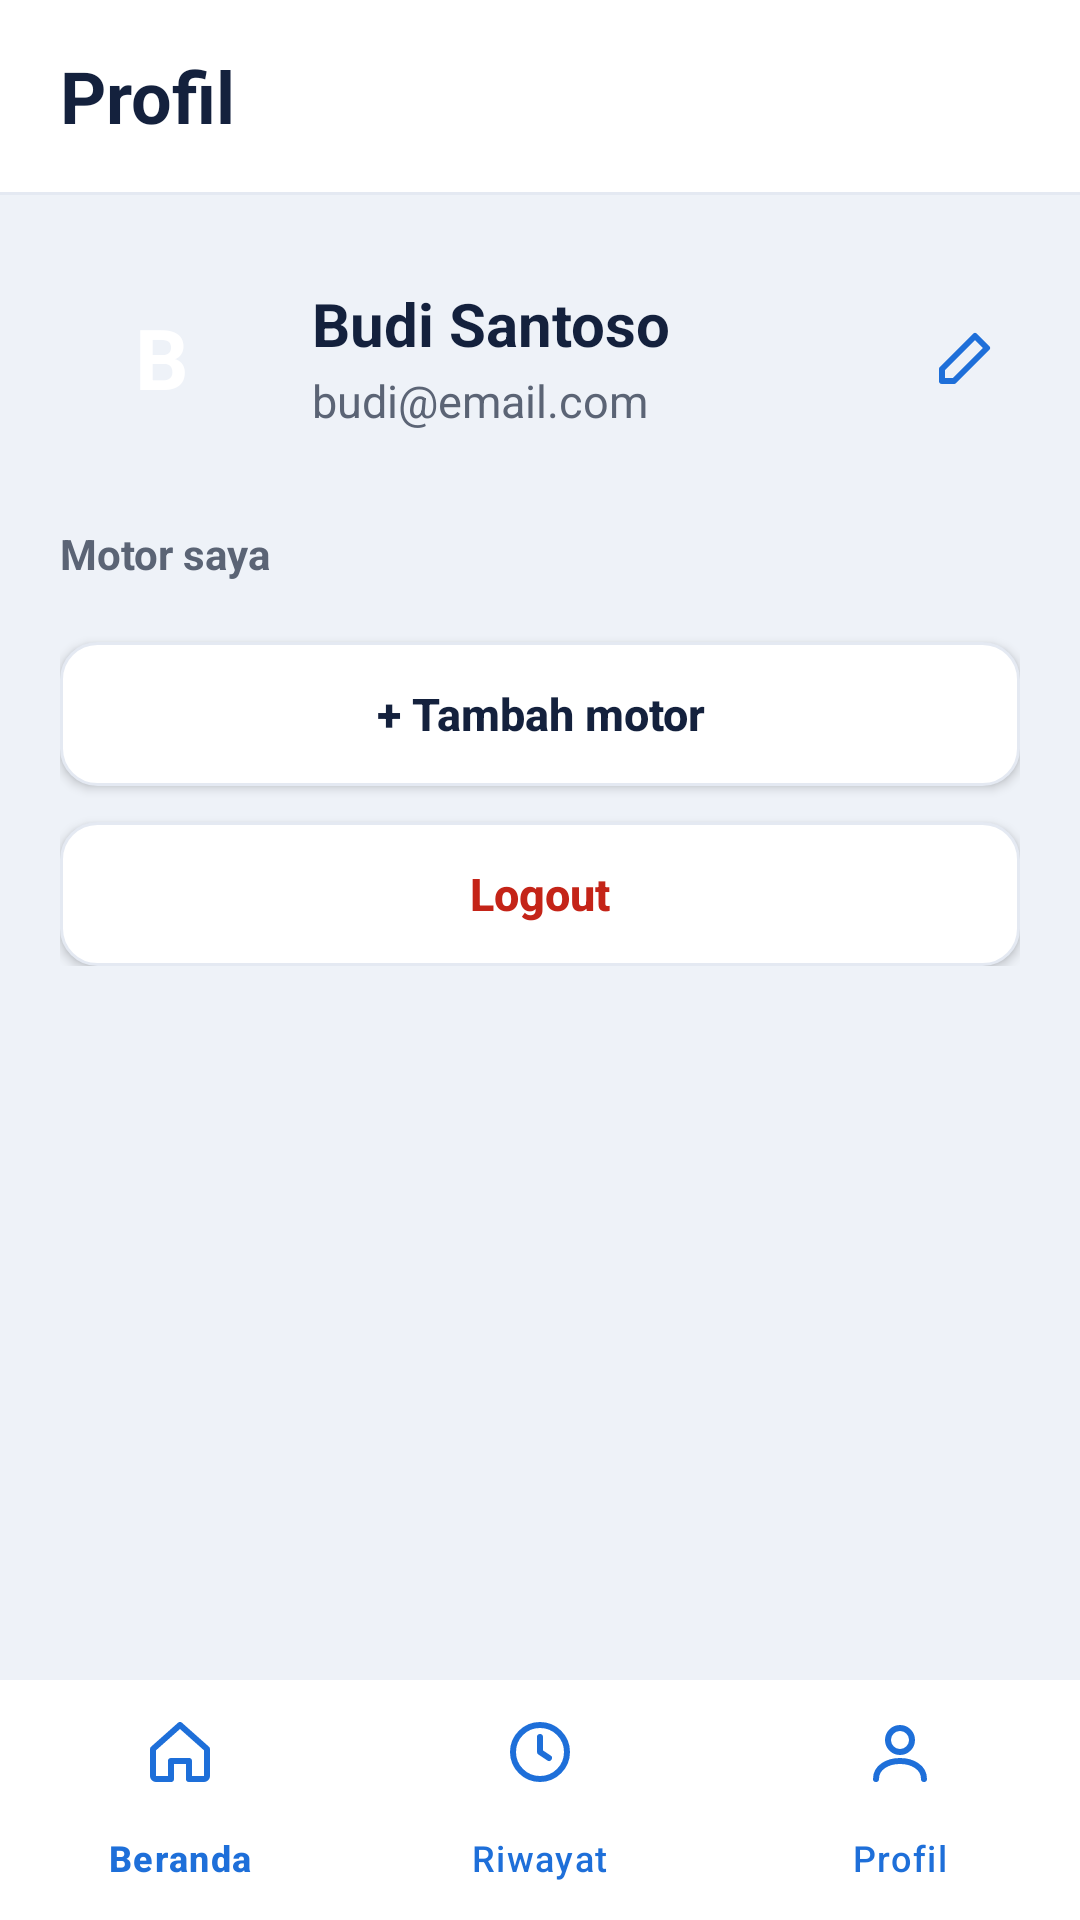

Screen size 1080 × 1920. Icon name, then its center in pixels as [x,y]:
Edit Profil: [964,358]
